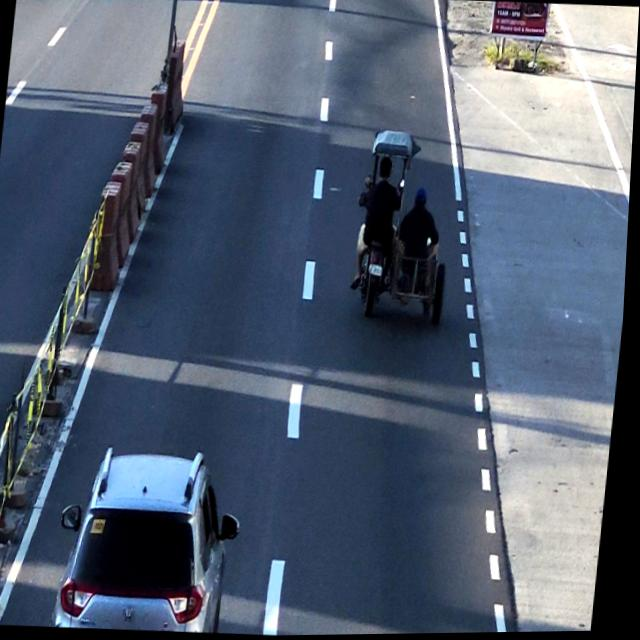Car: (59, 449, 245, 636)
License-Plate: (369, 262, 388, 282)
Tricycle: (347, 123, 465, 328)
